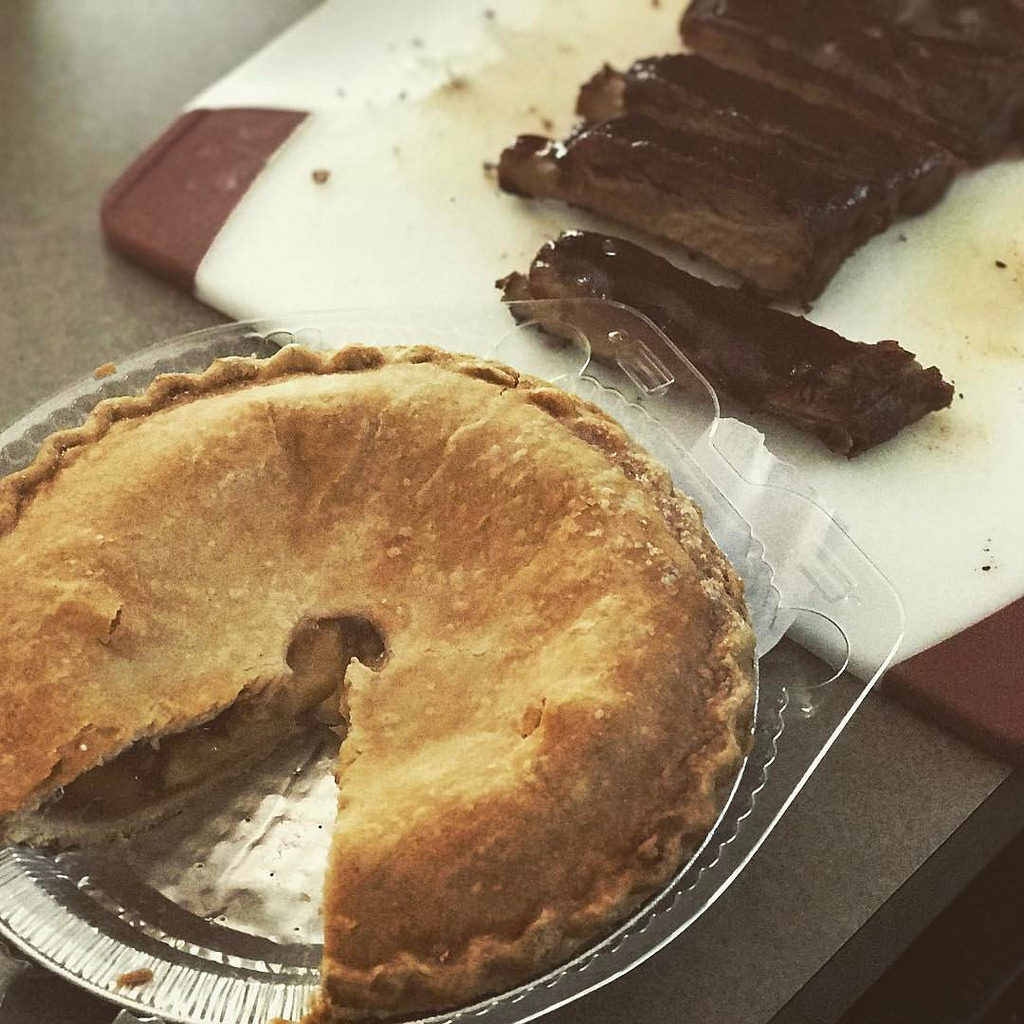slice of bread: (245, 381, 696, 566)
